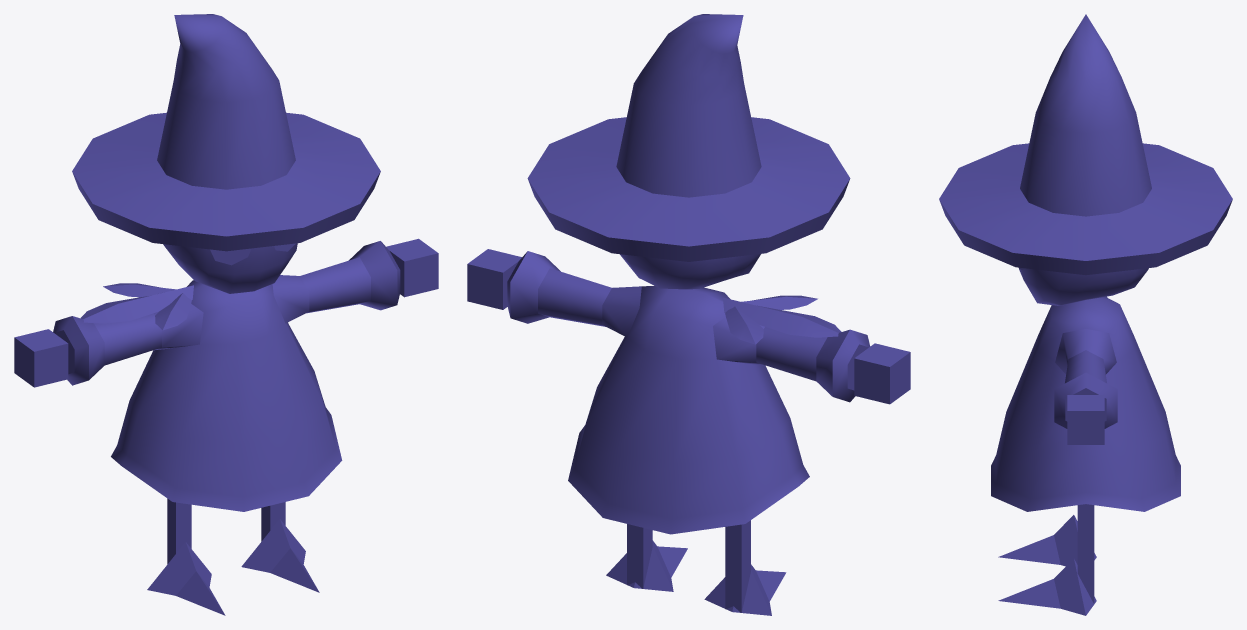
Rendered from SK_Mage.fbx.
3 views of the same model, side by side, from view 1: azimuth 30°, elevation 25°; view 2: azimuth 150°, elevation 25°; view 3: azimuth 270°, elevation 25° (orthographic). The views are drawn at different scales.
Parts seen in each view (by area): view 1: Mage_GEO; view 2: Mage_GEO; view 3: Mage_GEO.
Part boxes in pixels (x1,y1,x2,y2): Mage_GEO: (14, 14, 438, 615); Mage_GEO: (467, 14, 910, 615); Mage_GEO: (939, 14, 1232, 615).
Bounding box in the file's own units: 179 × 240 × 118.
